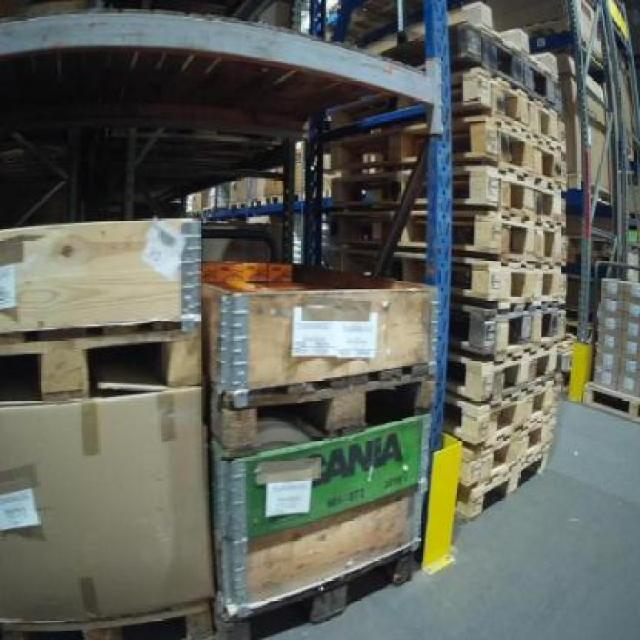pallet: (203, 349, 453, 474), (0, 307, 208, 420), (440, 60, 576, 158), (439, 103, 580, 194), (432, 365, 565, 459), (421, 332, 564, 418), (441, 395, 563, 487), (447, 433, 557, 533), (438, 200, 580, 272), (443, 250, 581, 315), (446, 152, 574, 222), (443, 291, 571, 357)
